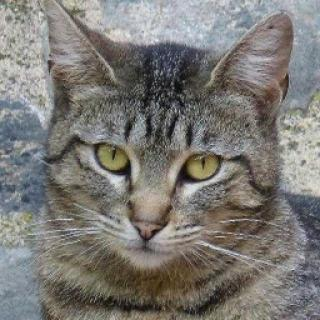cat: (40, 0, 302, 274)
nose: (125, 192, 173, 244)
